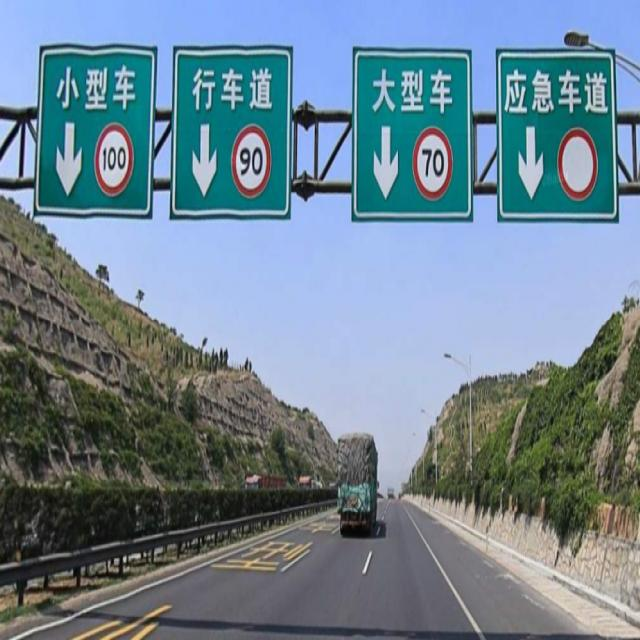speed limit 100: (93, 123, 134, 196)
speed limit 70: (413, 125, 453, 201)
speed limit 90: (231, 123, 272, 200)
